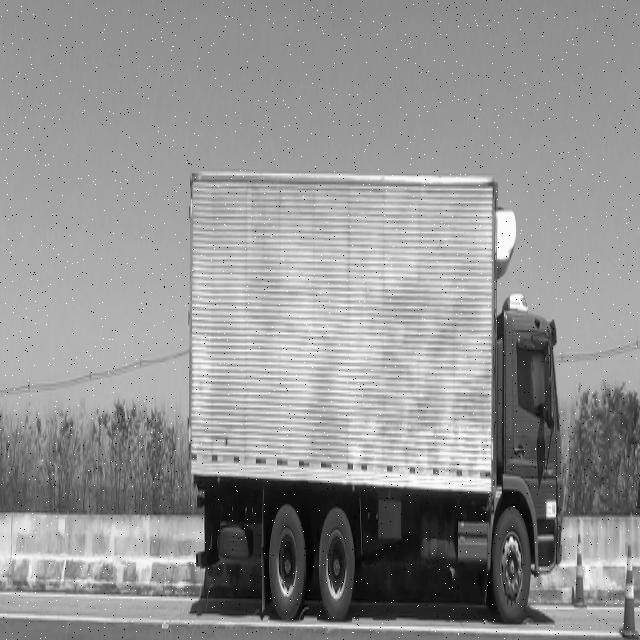-axle: (494, 505, 532, 624), (318, 508, 356, 623), (270, 503, 306, 618)
